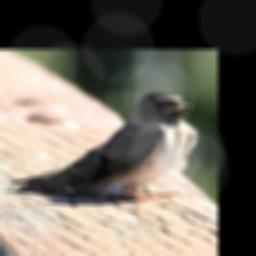Swallow: (7, 91, 199, 202)
